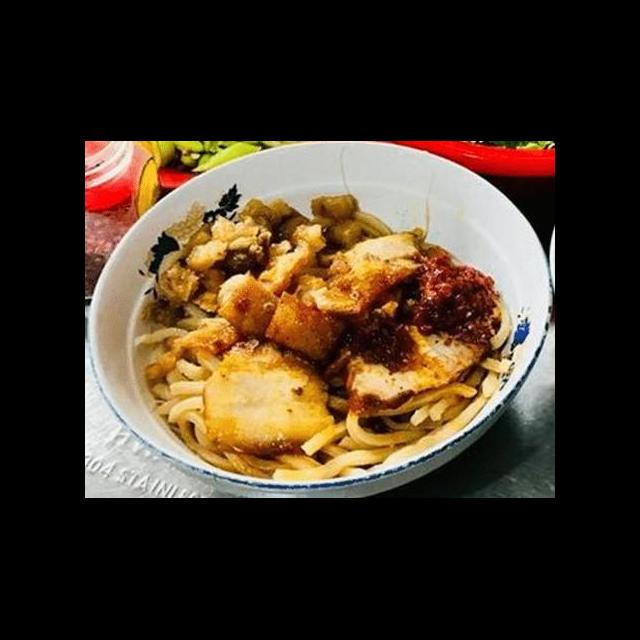banh da: (259, 287, 350, 363), (211, 272, 287, 344)
mi: (269, 404, 421, 489), (129, 322, 222, 454), (407, 356, 512, 459)
mi quang: (89, 176, 555, 498)
thit heo: (198, 336, 338, 458), (342, 316, 495, 422)
